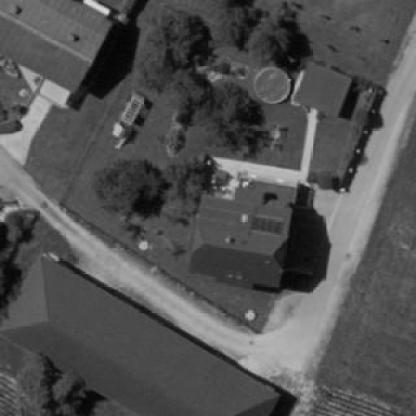solar-pv-panel: (252, 215, 283, 234)
